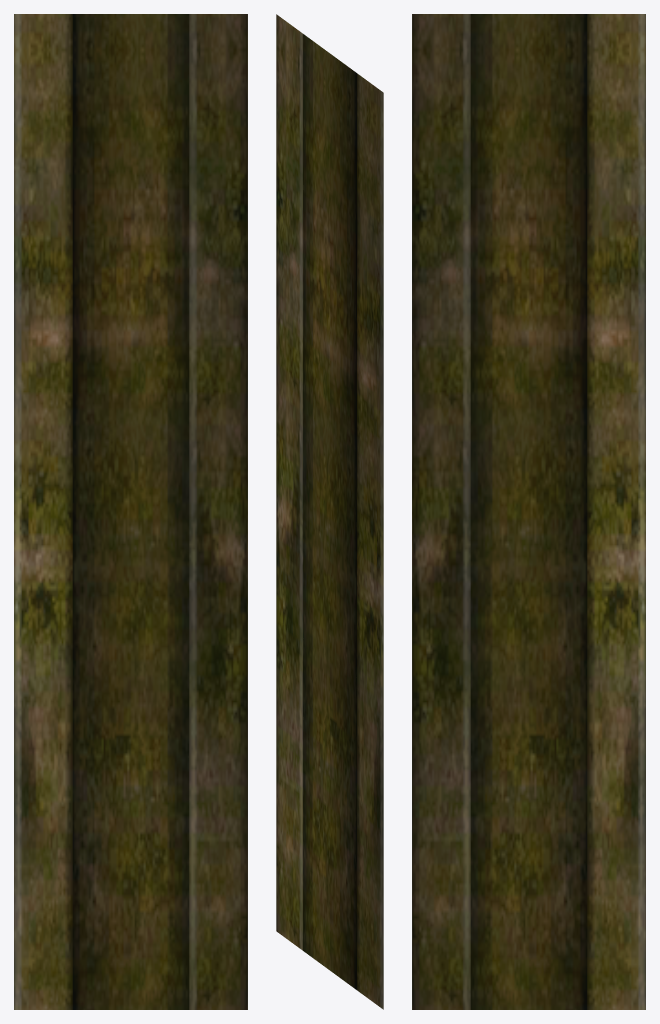
The model's file is OVERHILL_A_01_OBJECT254.fbx.
3 renders of one model, left to right at view 1: azimuth 90°, elevation 25°; view 2: azimuth 210°, elevation 25°; view 3: azimuth 270°, elevation 25°, orthographic. The views are drawn at different scales.
Parts seen in each view (by area): view 1: OVERHILL_A_01_OBJECT254; view 2: OVERHILL_A_01_OBJECT254; view 3: OVERHILL_A_01_OBJECT254.
Part boxes in pixels (bbox=[...]): OVERHILL_A_01_OBJECT254: bbox=[14, 14, 247, 1009]; OVERHILL_A_01_OBJECT254: bbox=[276, 14, 383, 1009]; OVERHILL_A_01_OBJECT254: bbox=[412, 14, 645, 1009].
Size of the model in its own units: 0 by 23653 by 5032.
Materials: 1 (1 with a texture image).
